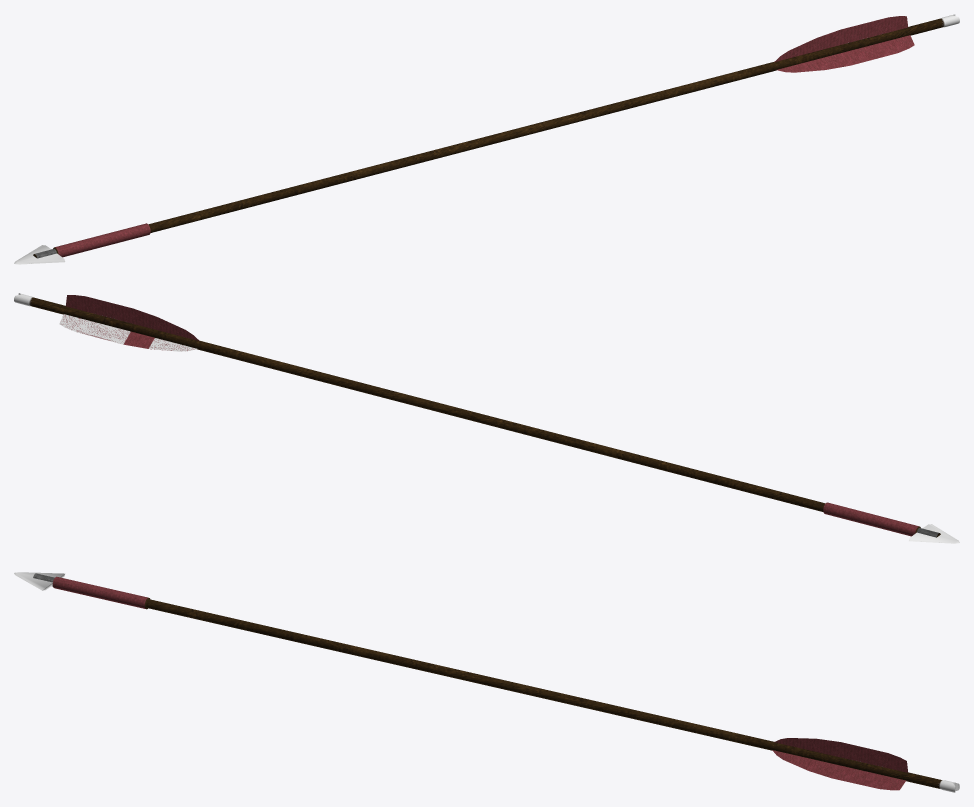
Rendered from simples_arrow (2).glb.
3 renders of one model, top to bottom at view 1: azimuth 30°, elevation 25°; view 2: azimuth 150°, elevation 25°; view 3: azimuth 330°, elevation 25°, orthographic.
Parts seen in each view (by area): view 1: flecha; view 2: flecha; view 3: flecha.
Part boxes in pixels (x1,y1,x2,y2): flecha: [14, 14, 959, 264]; flecha: [14, 293, 959, 543]; flecha: [14, 572, 959, 792].
Size of the model in its own units: 0.9511 by 0.0366 by 0.0408.
Materials: 1 (1 with a texture image).
